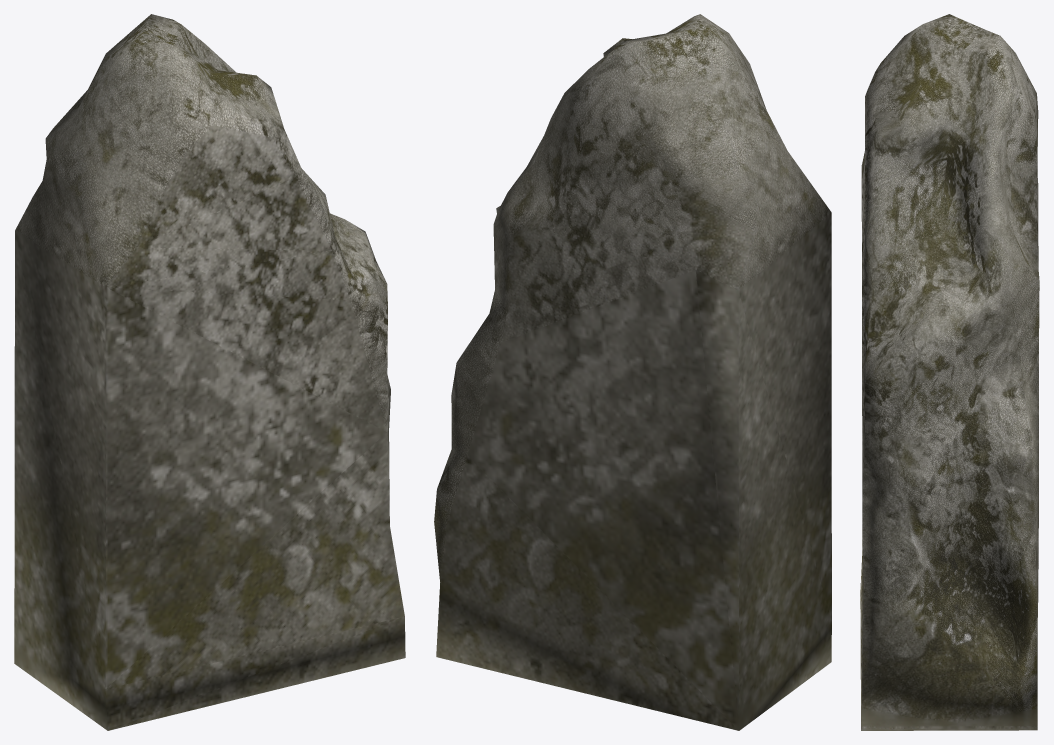
File: pillar_pointed_slab.glb
The picture shows the model from 3 angles, left to right: view 1: azimuth 30°, elevation 25°; view 2: azimuth 150°, elevation 25°; view 3: azimuth 270°, elevation 25°; orthographic projection. The views are drawn at different scales.
Bounding box in the file's own units: 0.4941 × 1 × 0.2646.
Materials: 1 (1 with a texture image).
